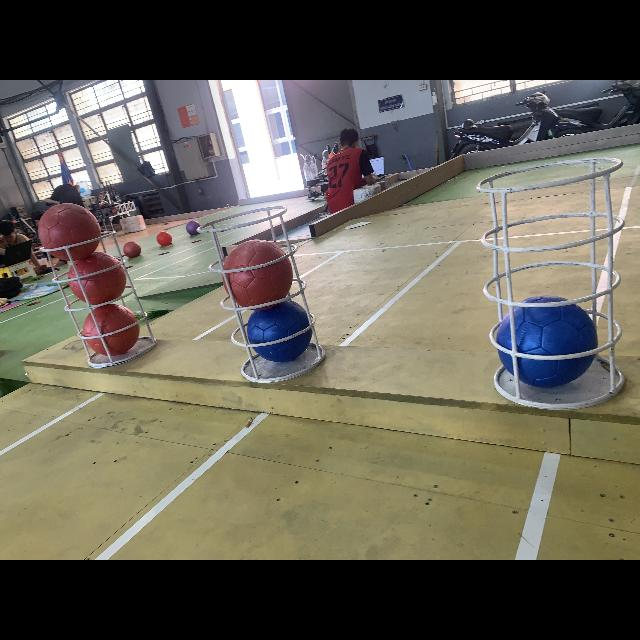B: (496, 296, 600, 388), (246, 300, 315, 363)
R: (222, 239, 295, 311), (38, 203, 102, 261), (82, 303, 141, 357), (68, 252, 128, 305)
